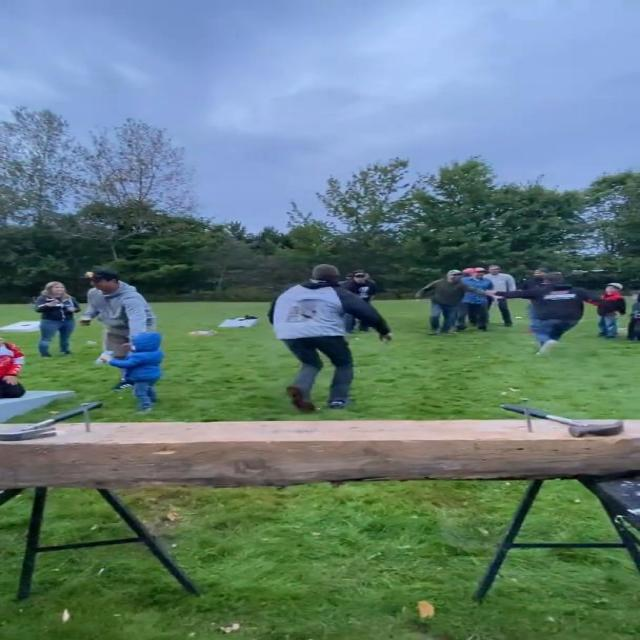hammer: (502, 404, 624, 438), (0, 402, 104, 441)
